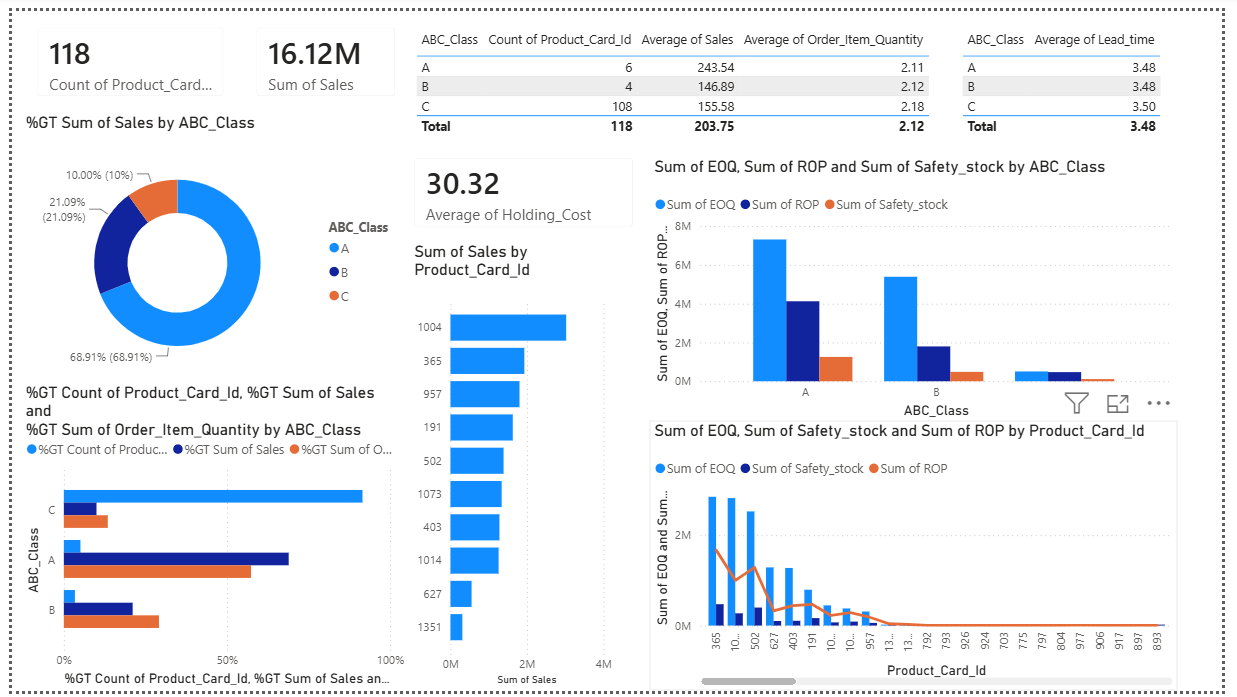

The dashboard page shown, as its layout file describes it:
{"tool":"powerbi","page":{"name":"Page 1","canvas":[1280,720],"ordinal":0},"visuals":[{"type":"cardVisual","fields":{"Data":["Count(final_merged.Product_Card_Id)"]},"box":[10,0,231,107.6],"z":0},{"type":"cardVisual","fields":{"Data":["Sum(final_merged.Sales)"]},"box":[241.9,0,181.4,107.7],"z":1000},{"type":"donutChart","fields":{"Category":["final_merged.ABC_Class"],"Y":["Divide(Sum(final_merged.Sales), ScopedEval(Sum(final_merged.Sales), []))"]},"box":[10,107.6,412.3,286.8],"z":2000},{"type":"tableEx","fields":{"Values":["final_merged.ABC_Class","Count(final_merged.Product_Card_Id)","Avg(final_merged.Sales)","Avg(final_merged.Order_Item_Quantity)"]},"box":[422.2,13.9,577.6,123.5],"z":3000},{"type":"tableEx","fields":{"Values":["final_merged.ABC_Class","Avg(final_merged.Lead_time)"]},"box":[999.9,13.9,233,123.5],"z":4000},{"type":"barChart","fields":{"Category":["final_merged.Product_Card_Id"],"Y":["Sum(final_merged.Sales)"]},"box":[420.3,245,219.1,474],"z":5000},{"type":"clusteredBarChart","fields":{"Category":["final_merged.ABC_Class"],"Y":["CountNonNull(final_merged.Product_Card_Id)","Sum(final_merged.Sales)","Sum(final_merged.Order_Item_Quantity)"]},"box":[10,394.4,410.3,324.7],"z":6000},{"type":"clusteredColumnChart","fields":{"Category":["final_merged.ABC_Class"],"Y":["Sum(final_merged.EOQ)","Sum(final_merged.ROP)","Sum(final_merged.Safety_stock)"]},"box":[675.2,153.4,557.7,280.8],"z":7000},{"type":"cardVisual","fields":{"Data":["Avg(final_merged.Holding_Cost)"]},"box":[408.3,137.4,266.9,107.6],"z":8000},{"type":"lineClusteredColumnComboChart","fields":{"Category":["final_merged.Product_Card_Id"],"Y":["Sum(final_merged.EOQ)","Sum(final_merged.Safety_stock)"],"Y2":["Sum(final_merged.ROP)"]},"box":[675,434,558,285],"z":9000}]}

Visuals, with their boxes in screenshot pixels (x1, y1, x2, y2), scaled from the page's 1280x720 canvas onto the 1237x697 screenshot:
cardVisual - Count(final_merged.Product_Card_Id): [left=10, top=0, right=233, bottom=104]
cardVisual - Sum(final_merged.Sales): [left=234, top=0, right=409, bottom=104]
donutChart - final_merged.ABC_Class x Divide(Sum(final_merged.Sales), ScopedEval(Sum(final_merged.Sales), [])): [left=10, top=104, right=408, bottom=382]
tableEx - final_merged.ABC_Class x Count(final_merged.Product_Card_Id): [left=408, top=13, right=966, bottom=133]
tableEx - final_merged.ABC_Class x Avg(final_merged.Lead_time): [left=966, top=13, right=1191, bottom=133]
barChart - final_merged.Product_Card_Id x Sum(final_merged.Sales): [left=406, top=237, right=618, bottom=696]
clusteredBarChart - final_merged.ABC_Class x CountNonNull(final_merged.Product_Card_Id): [left=10, top=382, right=406, bottom=696]
clusteredColumnChart - final_merged.ABC_Class x Sum(final_merged.EOQ): [left=653, top=148, right=1191, bottom=420]
cardVisual - Avg(final_merged.Holding_Cost): [left=395, top=133, right=653, bottom=237]
lineClusteredColumnComboChart - final_merged.Product_Card_Id x Sum(final_merged.EOQ): [left=652, top=420, right=1192, bottom=696]
